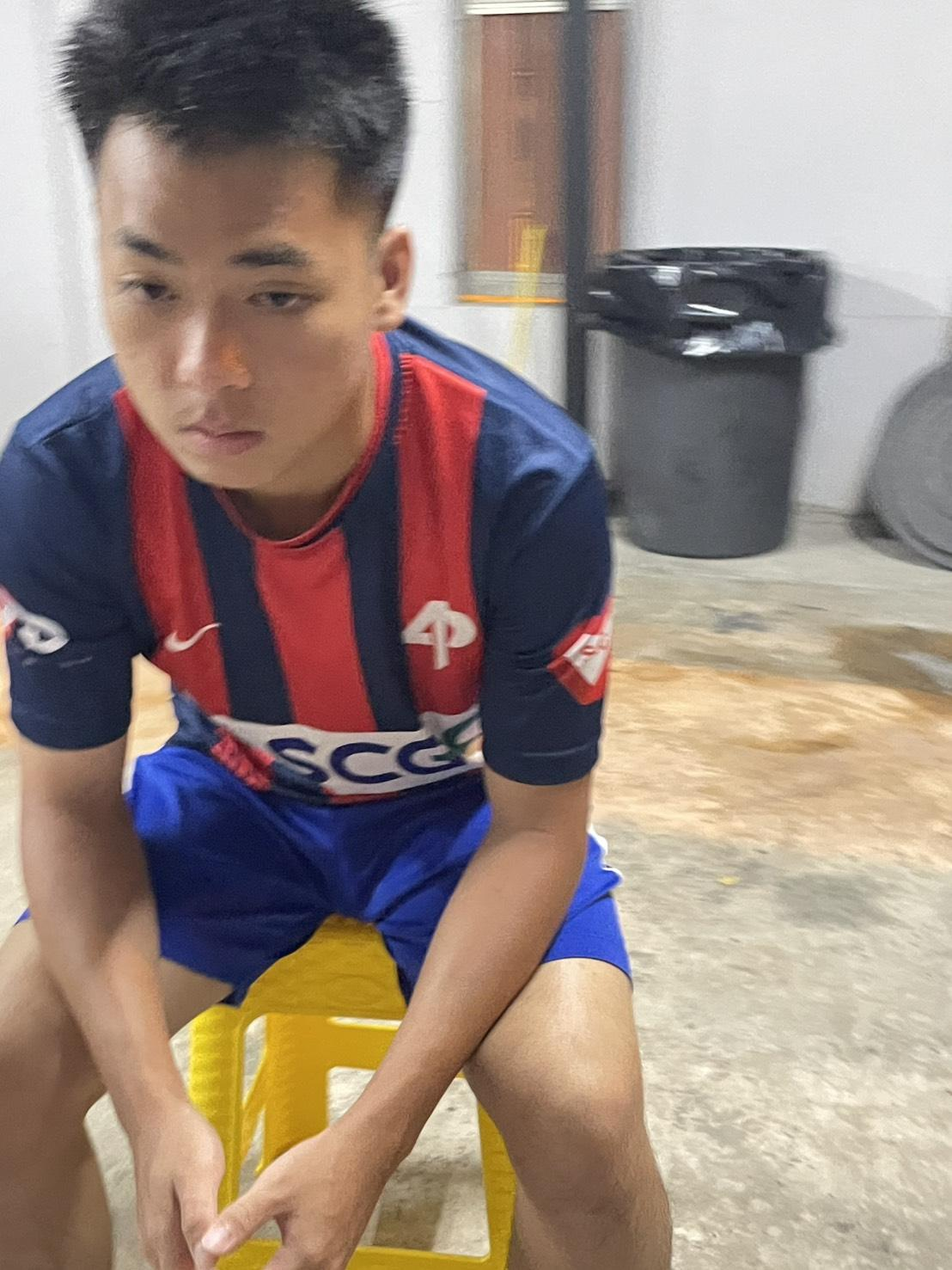BadPosture: (0, 0, 613, 806)
